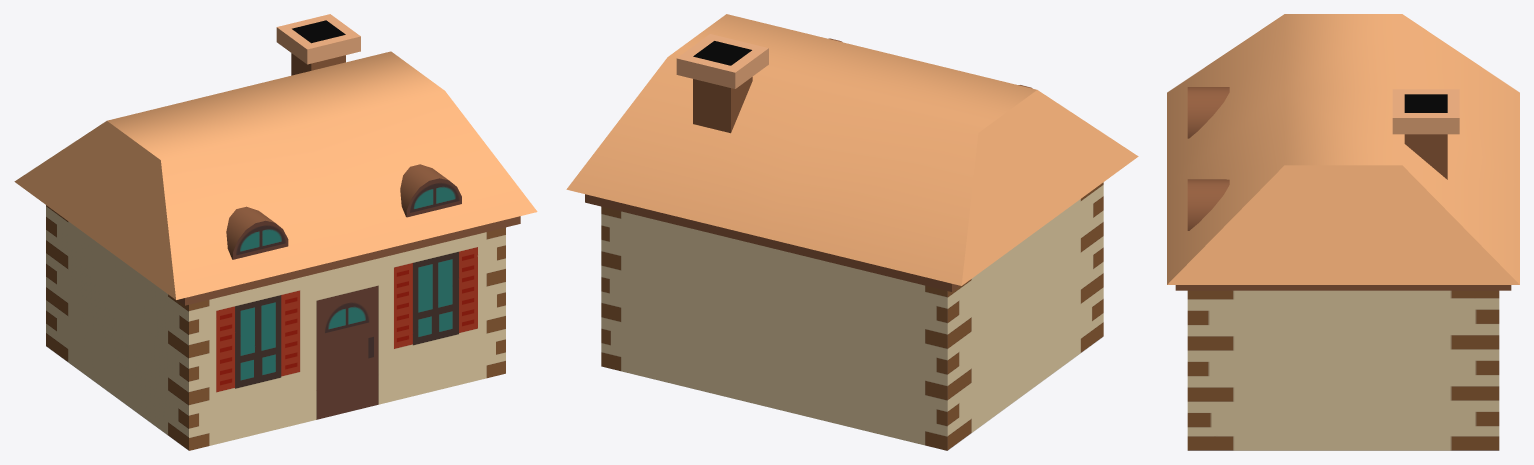
The model's file is Building #22.fbx.
3 views of the same model, side by side, from view 1: azimuth 30°, elevation 25°; view 2: azimuth 150°, elevation 25°; view 3: azimuth 270°, elevation 25° (orthographic). The views are drawn at different scales.
Parts seen in each view (by area): view 1: BuildingB; view 2: BuildingB; view 3: BuildingB.
Boxes of the visible parts, bbox=[...] form: BuildingB: bbox=[14, 14, 537, 450]; BuildingB: bbox=[566, 14, 1138, 450]; BuildingB: bbox=[1167, 14, 1519, 450].
Size of the model in its own units: 3215 by 2386 by 2494.
1 material, 1 textured.
